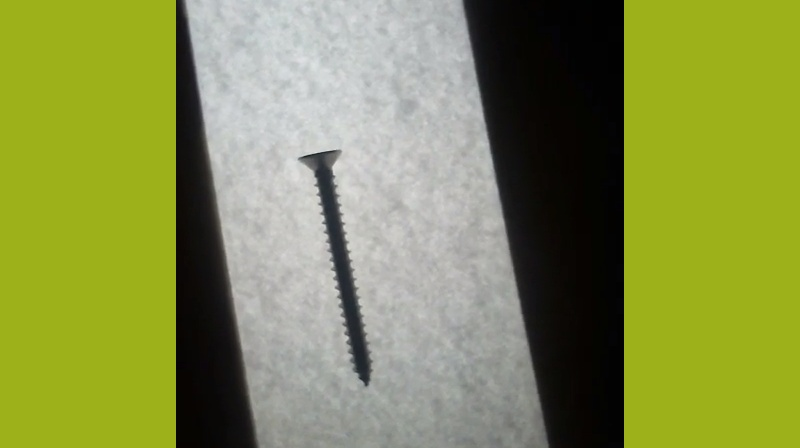S002: (297, 146, 376, 390)
